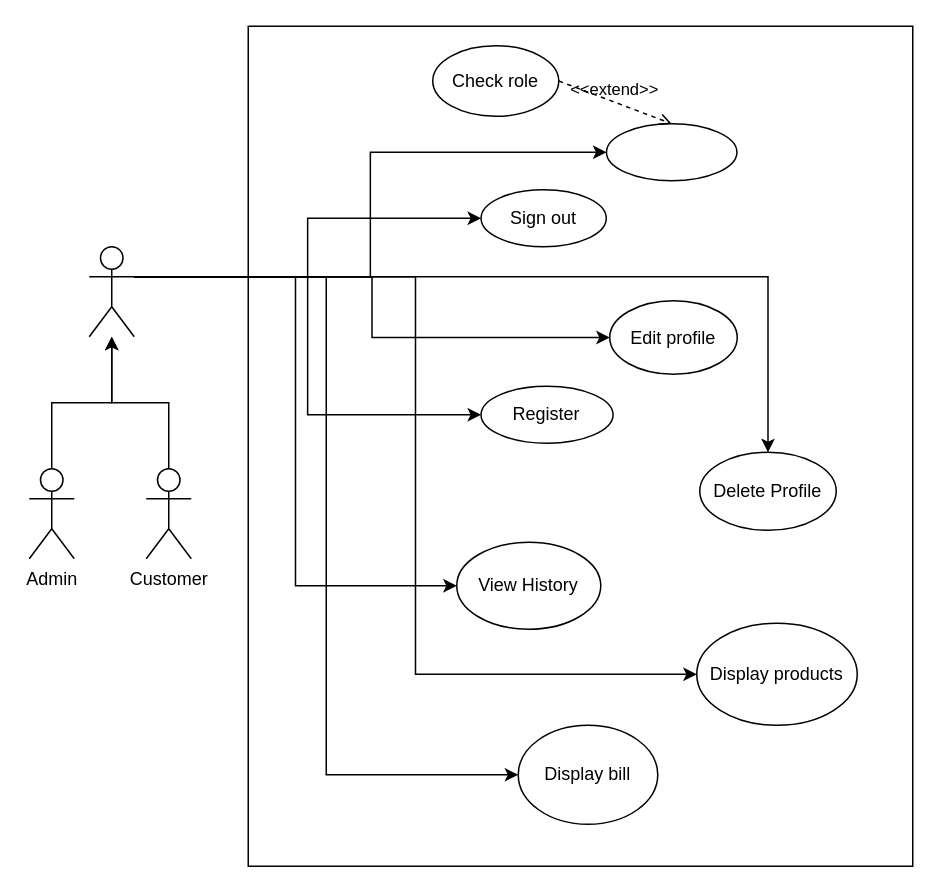
The diagram is 939 pixels wide and 893 high, and some of its shapes have lost their labels. Each missing label, with the centre of its shape:
Actor: (x=111, y=291)
Sign in: (x=671, y=151)
